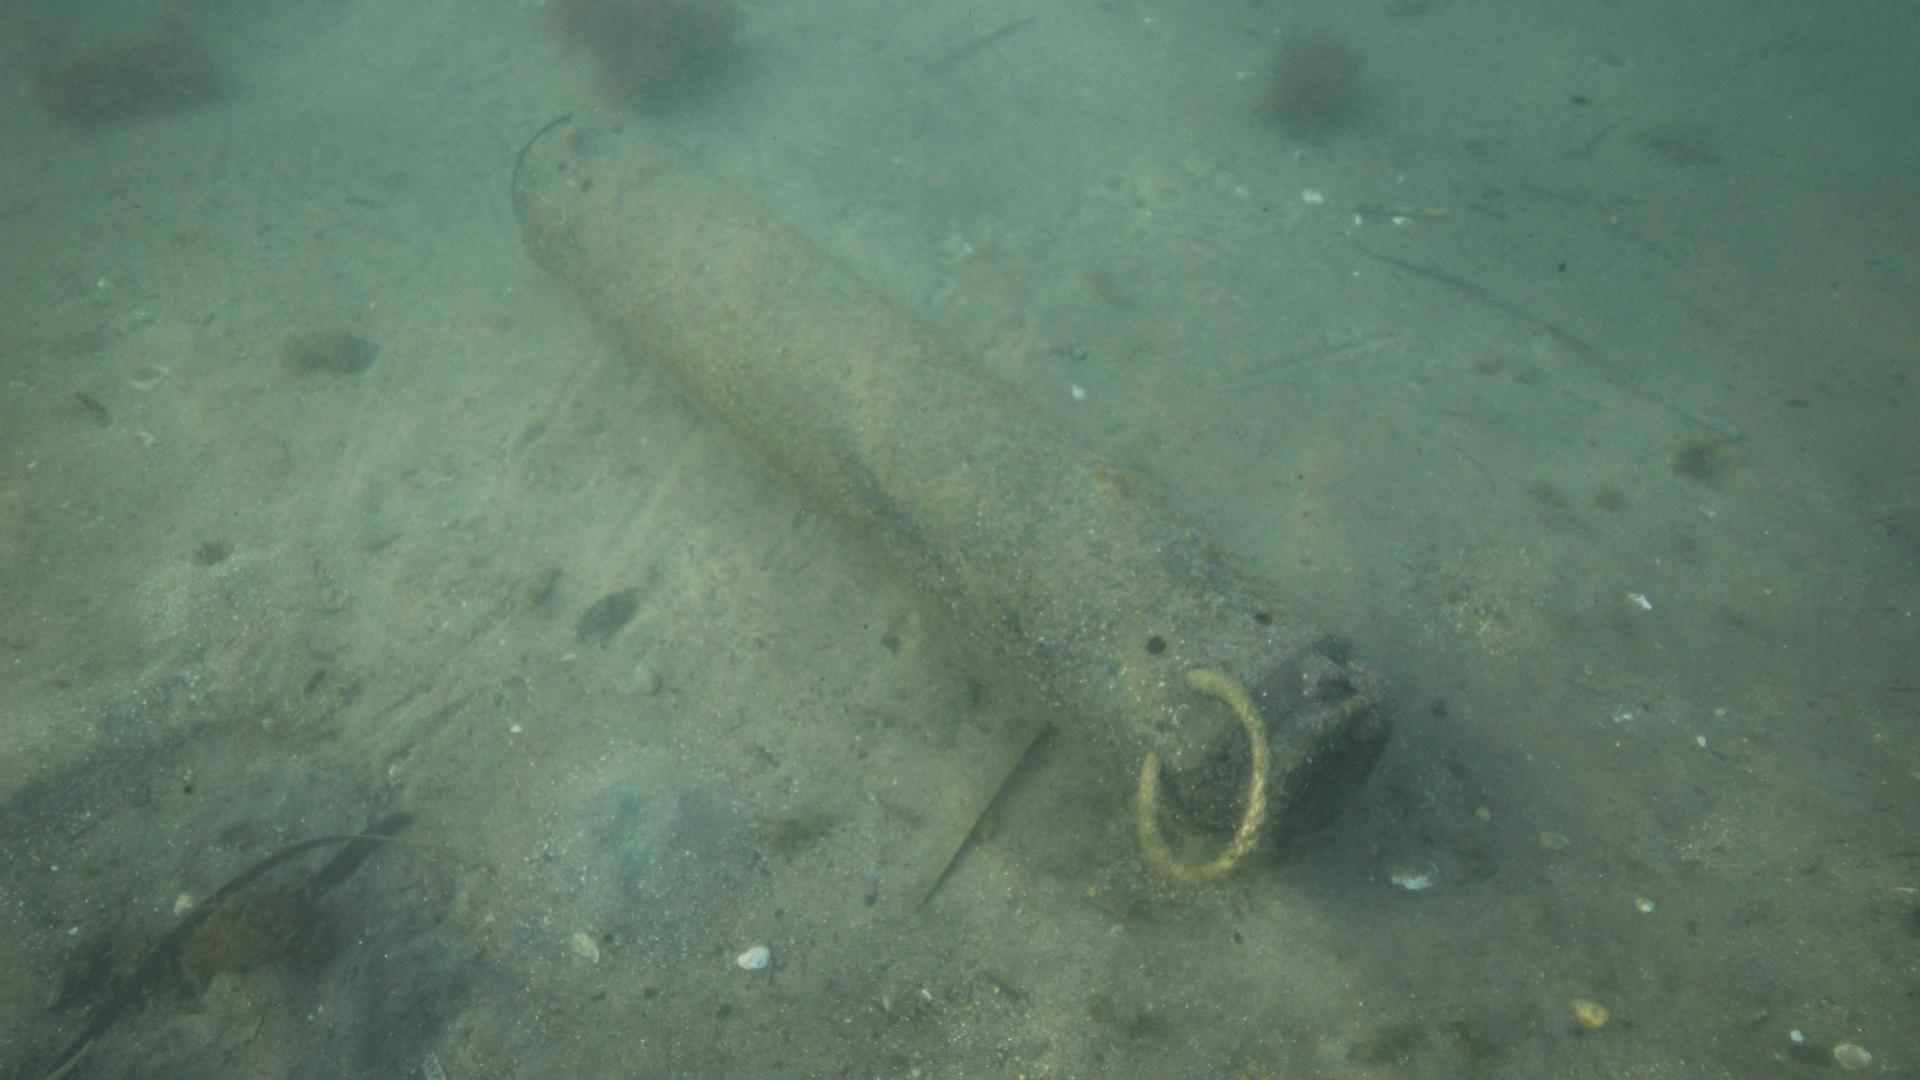eel fish trap: (513, 112, 1415, 847)
rope: (1131, 663, 1273, 887)
